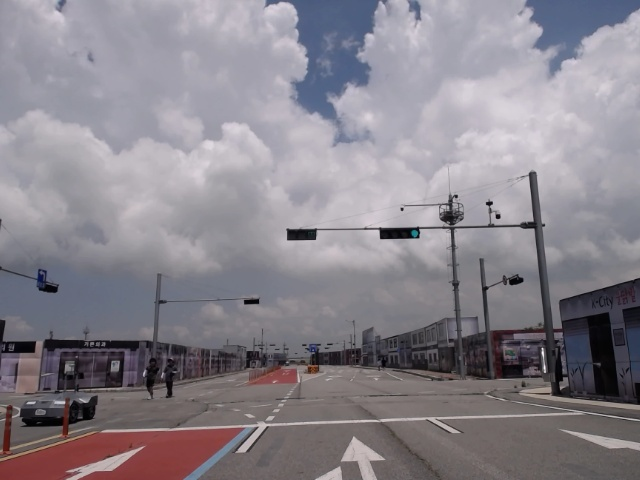straight_green_4: (381, 228, 421, 240)
